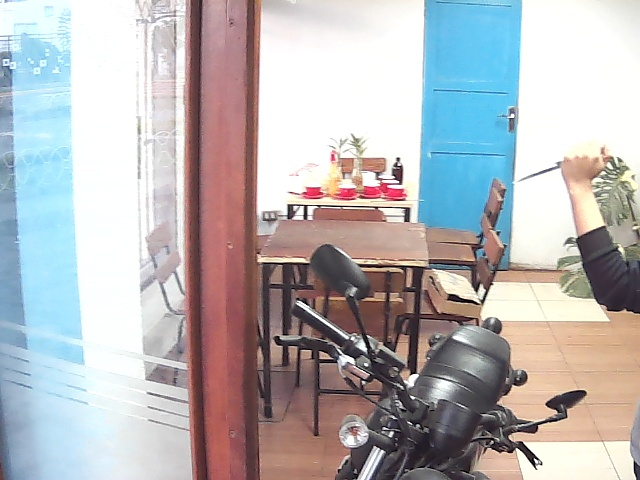cuchillo: (511, 139, 617, 194)
